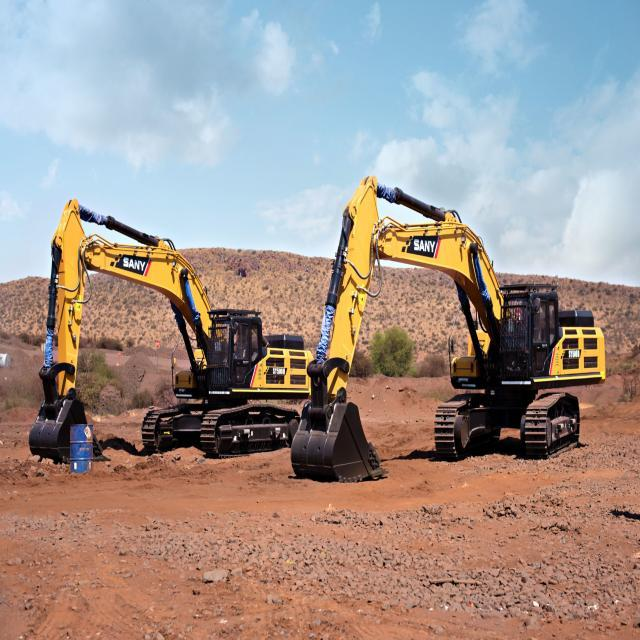excavator: (290, 168, 608, 482), (27, 195, 307, 482)
